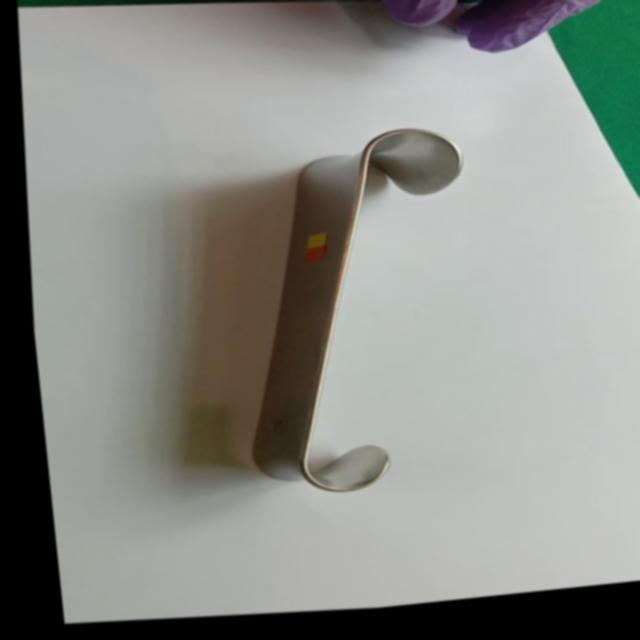CheekRetractor: (208, 119, 490, 513)
